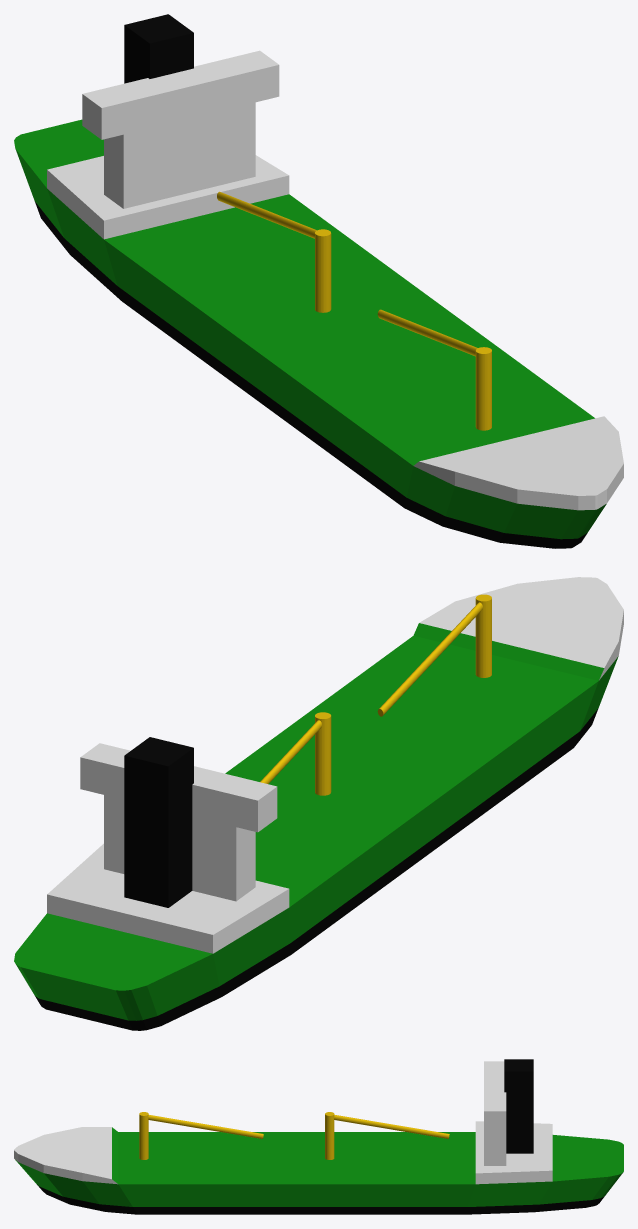
The model's file is cargo.glb.
The picture shows the model from 3 angles, top to bottom: view 1: azimuth 30°, elevation 25°; view 2: azimuth 150°, elevation 25°; view 3: azimuth 270°, elevation 25°; orthographic projection. The views are drawn at different scales.
Parts seen in each view (by area): view 1: shipbase, Cube, Cube.001, Cylinder, Cylinder.003, Cylinder.001, Cylinder.002; view 2: shipbase, Cube, Cube.001, Cylinder.003, Cylinder, Cylinder.001, Cylinder.002; view 3: shipbase, Cube.001, Cube, Cylinder.002, Cylinder.001, Cylinder, Cylinder.003.
Boxes of the visible parts, x1,y1,x2,y2 form: shipbase: (14, 119, 623, 548); Cube: (82, 50, 279, 208); Cube.001: (124, 14, 193, 83); Cylinder: (475, 347, 491, 430); Cylinder.003: (315, 229, 331, 312); Cylinder.001: (377, 309, 477, 356); Cylinder.002: (217, 191, 316, 238); shipbase: (14, 577, 623, 1030); Cube: (80, 743, 277, 901); Cube.001: (124, 737, 193, 907); Cylinder.003: (315, 712, 331, 795); Cylinder: (475, 594, 491, 677); Cylinder.001: (377, 602, 482, 716); Cylinder.002: (260, 720, 321, 784); shipbase: (14, 1121, 623, 1214); Cube.001: (504, 1059, 533, 1153); Cube: (484, 1061, 506, 1165); Cylinder.002: (334, 1114, 449, 1138); Cylinder.001: (148, 1115, 263, 1138); Cylinder: (139, 1112, 148, 1159); Cylinder.003: (325, 1112, 334, 1159).
Bounding box in the file's own units: 17.98 × 20.14 × 88.75.
